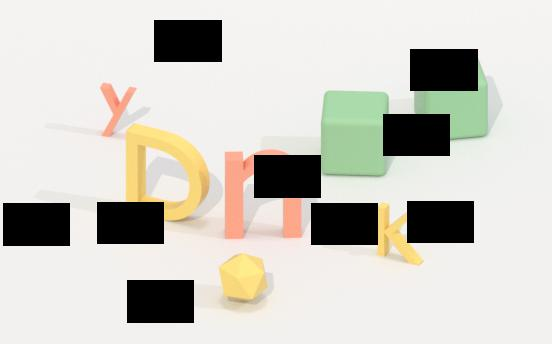Y: (97, 80, 137, 139)
d: (123, 119, 213, 230)
dagiac: (219, 252, 269, 307)
hop: (412, 51, 491, 144), (318, 87, 392, 179)
k: (374, 199, 426, 269)
n: (223, 146, 304, 242)
